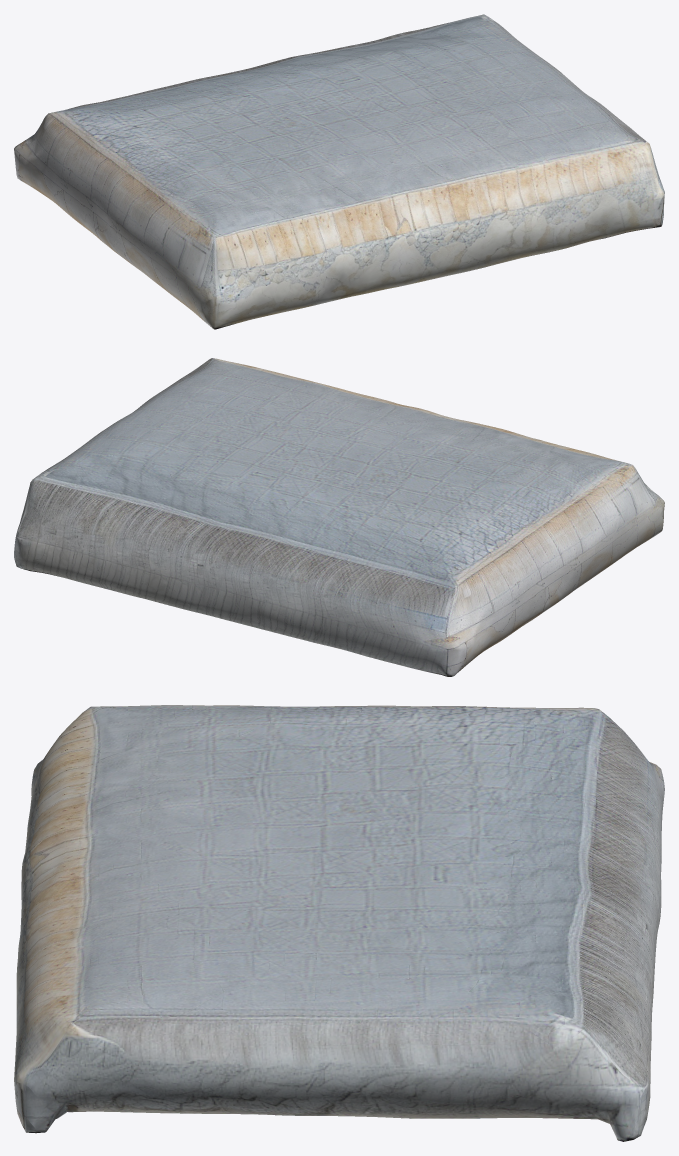
The model's file is house_foundation_0328060833_refine.fbx.
3 renders of one model, top to bottom at view 1: azimuth 30°, elevation 25°; view 2: azimuth 150°, elevation 25°; view 3: azimuth 270°, elevation 25°, orthographic. The views are drawn at different scales.
Visible parts, largest first — view 1: Mesh_0; view 2: Mesh_0; view 3: Mesh_0.
Boxes of the visible parts, x1=… form: Mesh_0: x1=14, y1=14, x2=664, y2=329; Mesh_0: x1=14, y1=358, x2=664, y2=676; Mesh_0: x1=14, y1=705, x2=664, y2=1141.
Bounding box in the file's own units: 120 × 26.3 × 95.88.
1 material, 1 textured.
